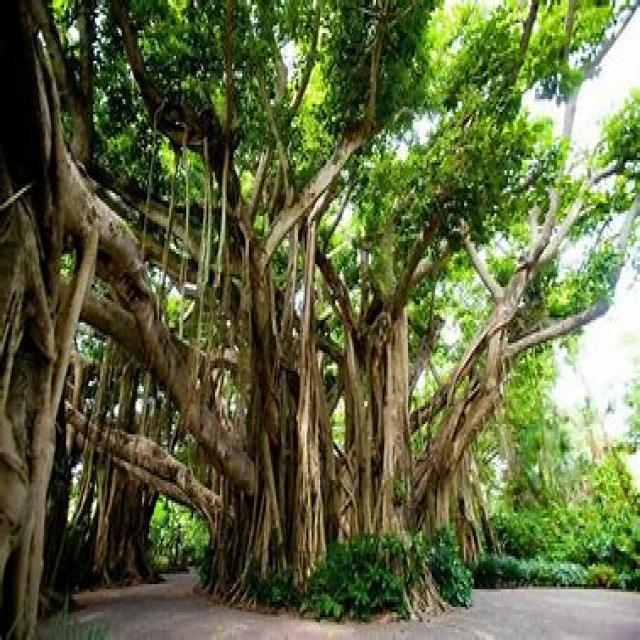Banyan-Tree: (0, 0, 640, 640), (133, 67, 513, 639)
